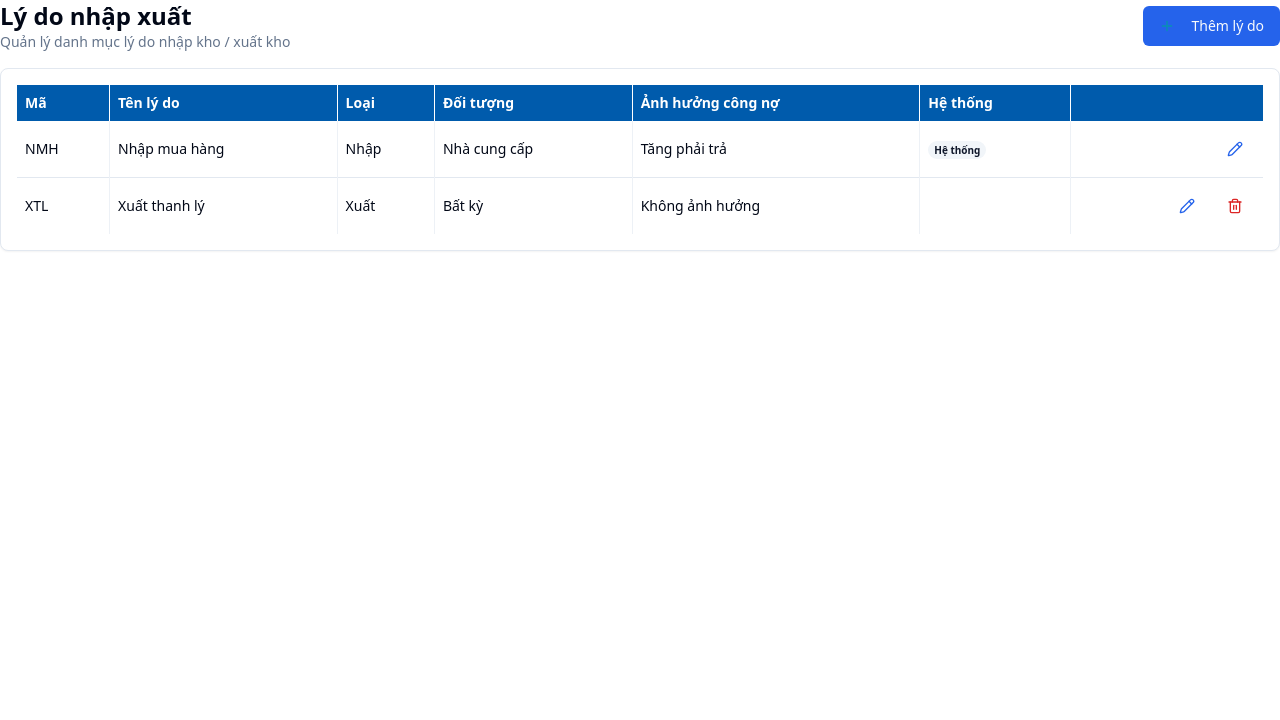
Test: StockReasonListPage › system reason disables direction and partner type and hides delete
Expected: the button named "Xóa lý do" is shown, [1215, 186, 1255, 226]
What coordinates should you click on to do the following:
click the button named "Sửa lý do" in the row of "NMH"
I would click on:
 (1235, 149)
Its box is [1215, 129, 1255, 169].
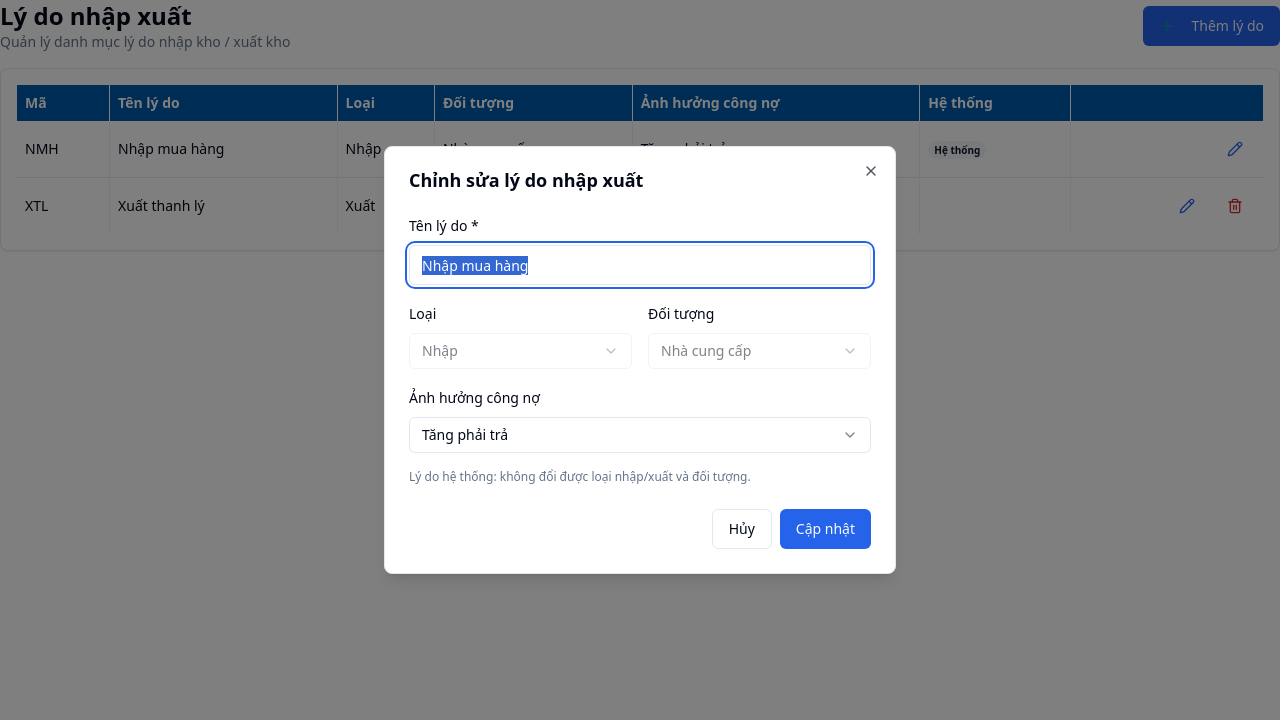
Now the dropdown named "Loại" is disabled, box [409, 333, 632, 369]
Now the dropdown named "Đối tượng" is disabled, box [648, 333, 871, 369]
Now the field labelled "Tên lý do *" is enabled, box [409, 245, 871, 285]
